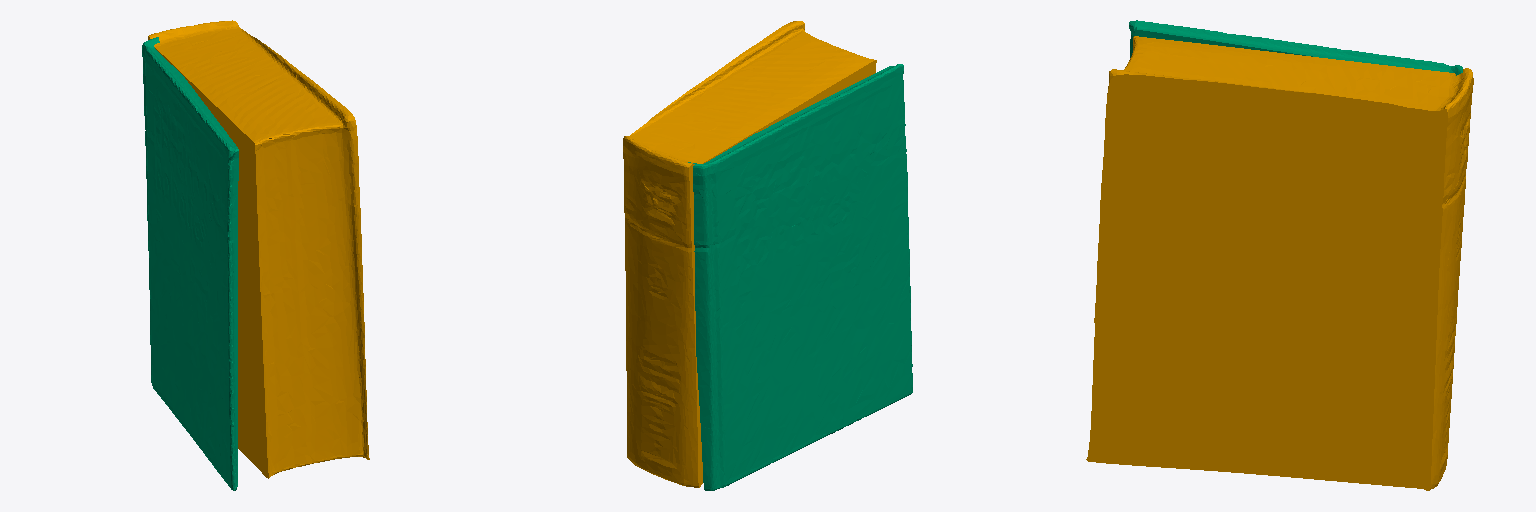
The robot description file, URDF, robot "book":
<?xml version="1.0"?>
<robot name="book">
  <link name ="rb0">
    <visual>
      <origin xyz='0.126804 -0.046692 -0.124746' rpy='0.216949 -1.472020 -1.942373'/>
      <geometry>
        <mesh filename="package://articulated_objects_db/data/objects/book/meshes/book_bottom.dae"  scale="1 1 1" />
      </geometry>
    </visual>
  </link>
  <joint name="j_0_1" type="revolute">
    <parent link="rb0"/>
    <child link="rb1"/>
    <origin xyz="-0.0177468744444 0.0828859326016 -0.0231983870346" rpy="0 0 0 "/>
    <axis xyz="-0.0136715161651 0.0358929975763 0.999262118951"/>
    <limit effort="30" velocity="1.0" lower="-3.1416" upper="3.1416"/>
  </joint>
  <joint name="j_0_fixed" type="fixed">
    <parent link="rb1"/>
    <child link="rb1_marker"/>
      <origin xyz="-0.0478552688509 -0.199694573384 0.00642943110735" rpy="-1.54919398998 -0.0117697714579 2.44482313398"/>
    <limit effort="30" velocity="1.0" lower="-3.1416" upper="3.1416"/>
  </joint>
  <link name ="rb1">
  </link>
  <link name ="rb1_marker">
    <visual>
      <origin xyz='-0.033606 0.111992 -0.131134' rpy='-2.689532 -0.104439 -1.616204'/>
      <geometry>
        <mesh filename="package://articulated_objects_db/data/objects/book/meshes/book_top.dae"  scale="1 1 1" />
      </geometry>
    </visual>
  </link>
</robot>

--- Facts derived from the render (not from the file) ---
3 views of the same robot in one strip: view 1: azimuth 30°, elevation 25°; view 2: azimuth 150°, elevation 25°; view 3: azimuth 270°, elevation 25° (orthographic).
Robot: book — 3 links, 2 joints (1 revolute, 1 fixed); root link rb0; default pose: every joint at zero.
Visible links, largest first — view 1: rb0, rb1_marker; view 2: rb1_marker, rb0; view 3: rb0, rb1_marker.
Boxes of the visible links, box(x1,y1,x2,y2) form: rb0: box(148, 20, 369, 478); rb1_marker: box(142, 37, 238, 490); rb1_marker: box(688, 64, 912, 490); rb0: box(623, 21, 876, 487); rb0: box(1086, 36, 1473, 490); rb1_marker: box(1129, 20, 1462, 75).
Size in the robot's own frame: 0.117 by 0.2262 by 0.2638 metres.
Meshes: 2 distinct files referenced, 2 mesh visuals loaded (2 Collada DAE).